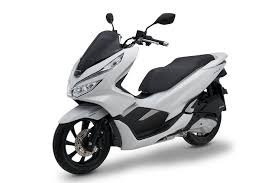motor: (47, 30, 225, 172)
